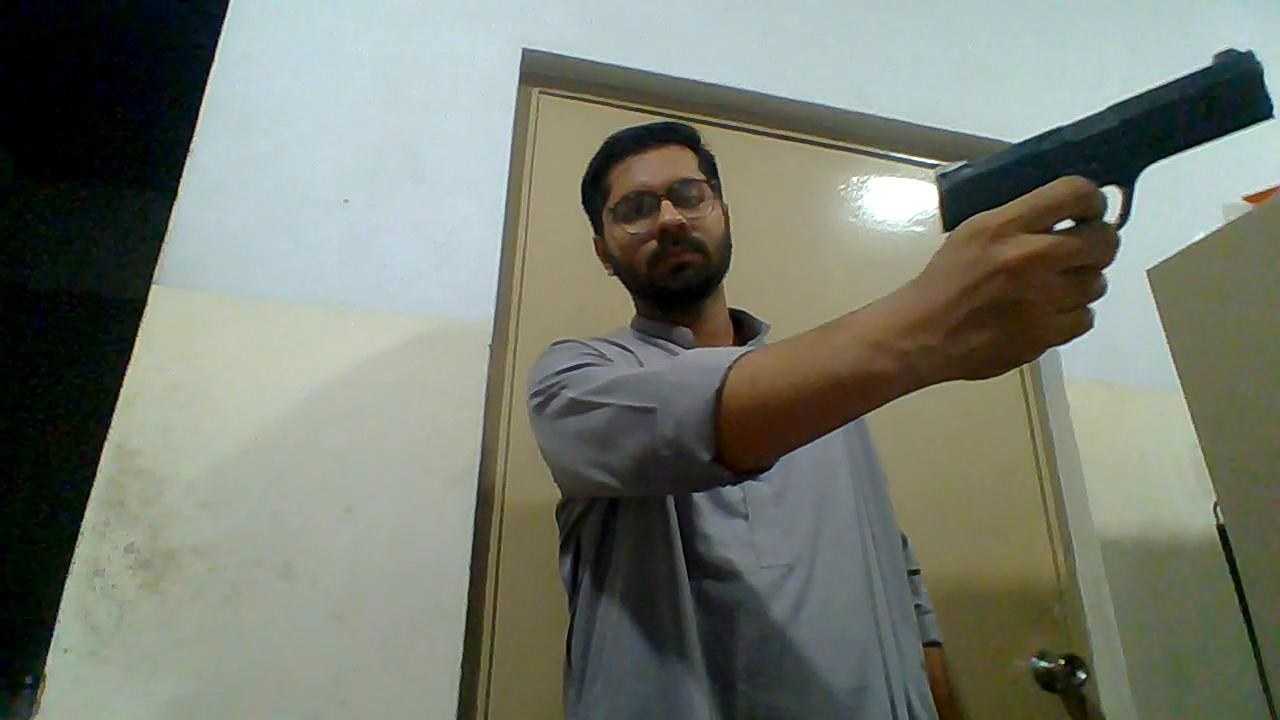criminal: (527, 43, 1276, 720)
weapon: (932, 44, 1276, 240)
